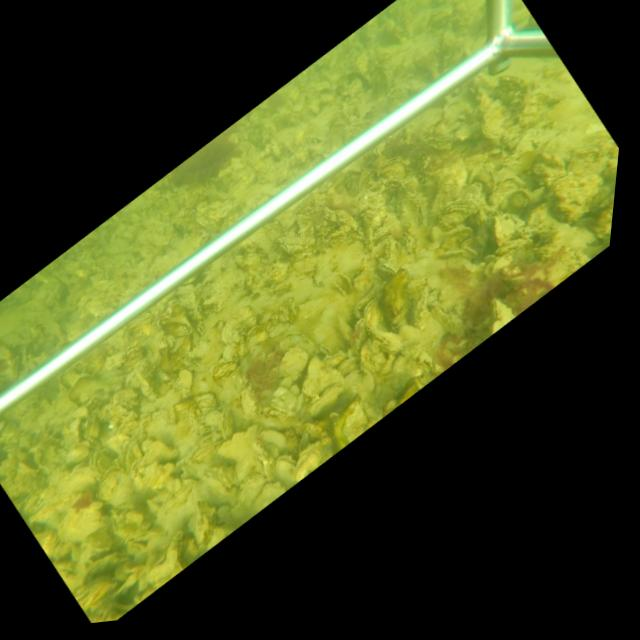Oyster-Closed: (362, 297, 403, 352), (299, 355, 345, 399), (144, 533, 181, 586), (229, 471, 266, 518), (396, 191, 426, 246), (176, 283, 204, 336), (94, 465, 130, 503), (308, 383, 345, 419), (436, 198, 476, 228), (490, 297, 515, 335), (324, 206, 359, 233), (237, 382, 260, 419), (190, 500, 209, 544), (273, 230, 307, 253), (218, 406, 235, 439), (377, 261, 395, 280)
Oyster-Indeterminate: (82, 550, 120, 585), (278, 346, 309, 382), (172, 367, 195, 398)
Oyster-Open: (330, 271, 354, 294)
